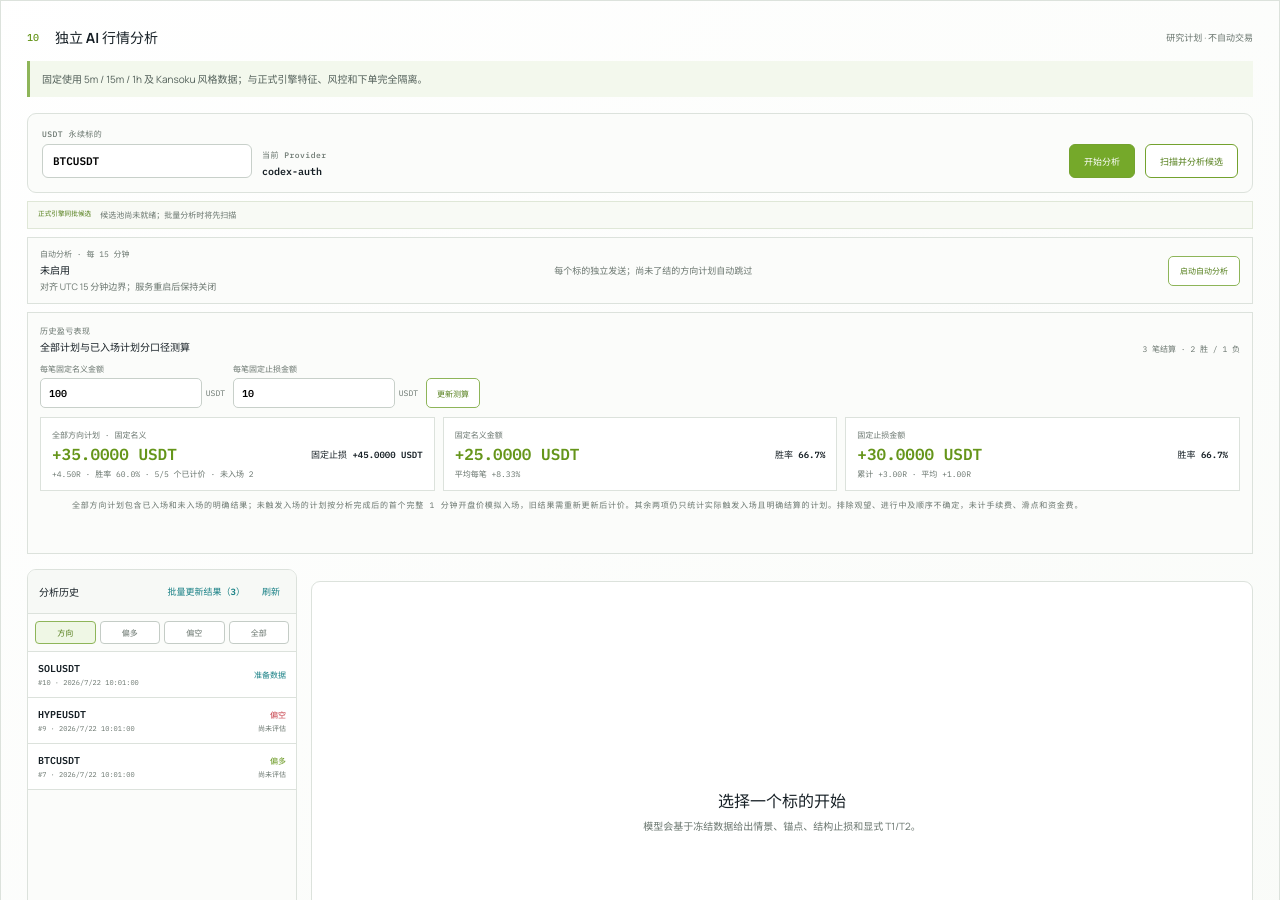
Test: MarketAnalysisPanel › filters analysis history by directional, long, short, and all results
This screenshot has width=1280, height=900.
Expected: the text "HYPEUSDT" is shown, [38, 708, 86, 721]
Expected: the text "BTCUSDT" is shown, [38, 754, 80, 767]
Click the button "偏多" at (130, 632), box [100, 621, 160, 644]
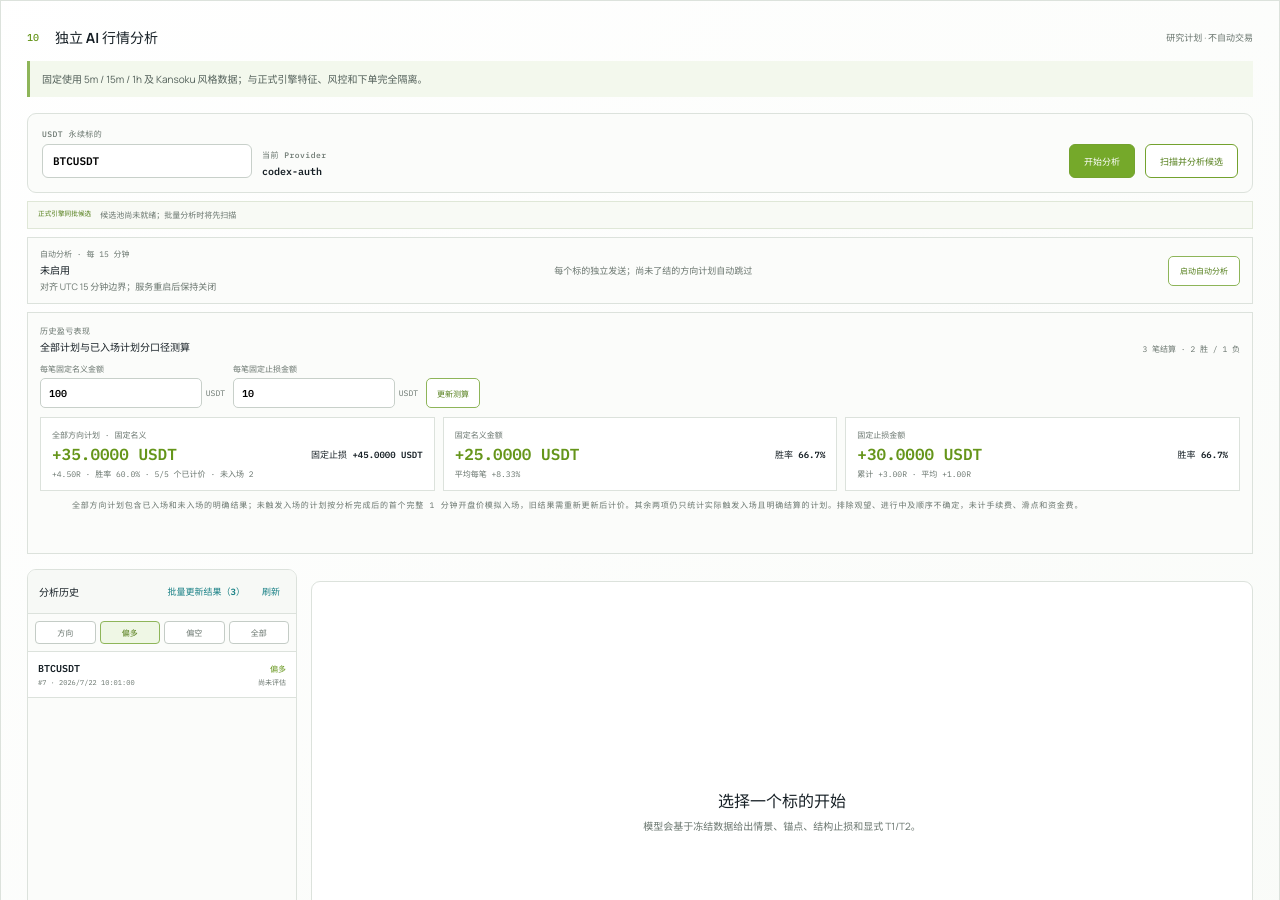
Expected: the text "BTCUSDT" is shown, [38, 662, 80, 675]
Expected: the button "HYPEUSDT" is gone
Expected: the button "SOLUSDT" is gone
Click the button "偏空" at (194, 632), box [164, 621, 224, 644]
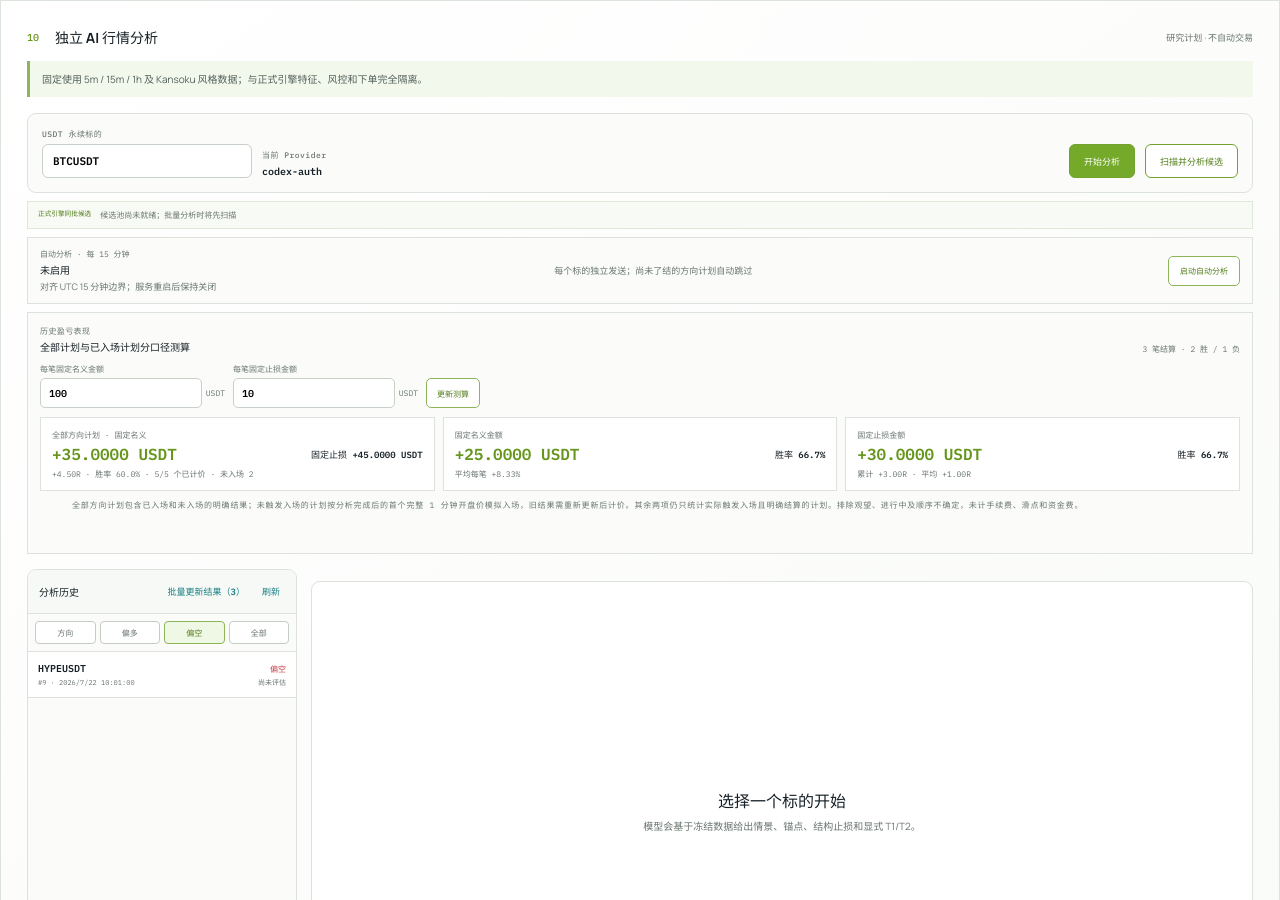
Expected: the text "HYPEUSDT" is shown, [38, 662, 86, 675]
Click the button "全部" at (259, 632), box [228, 621, 289, 644]
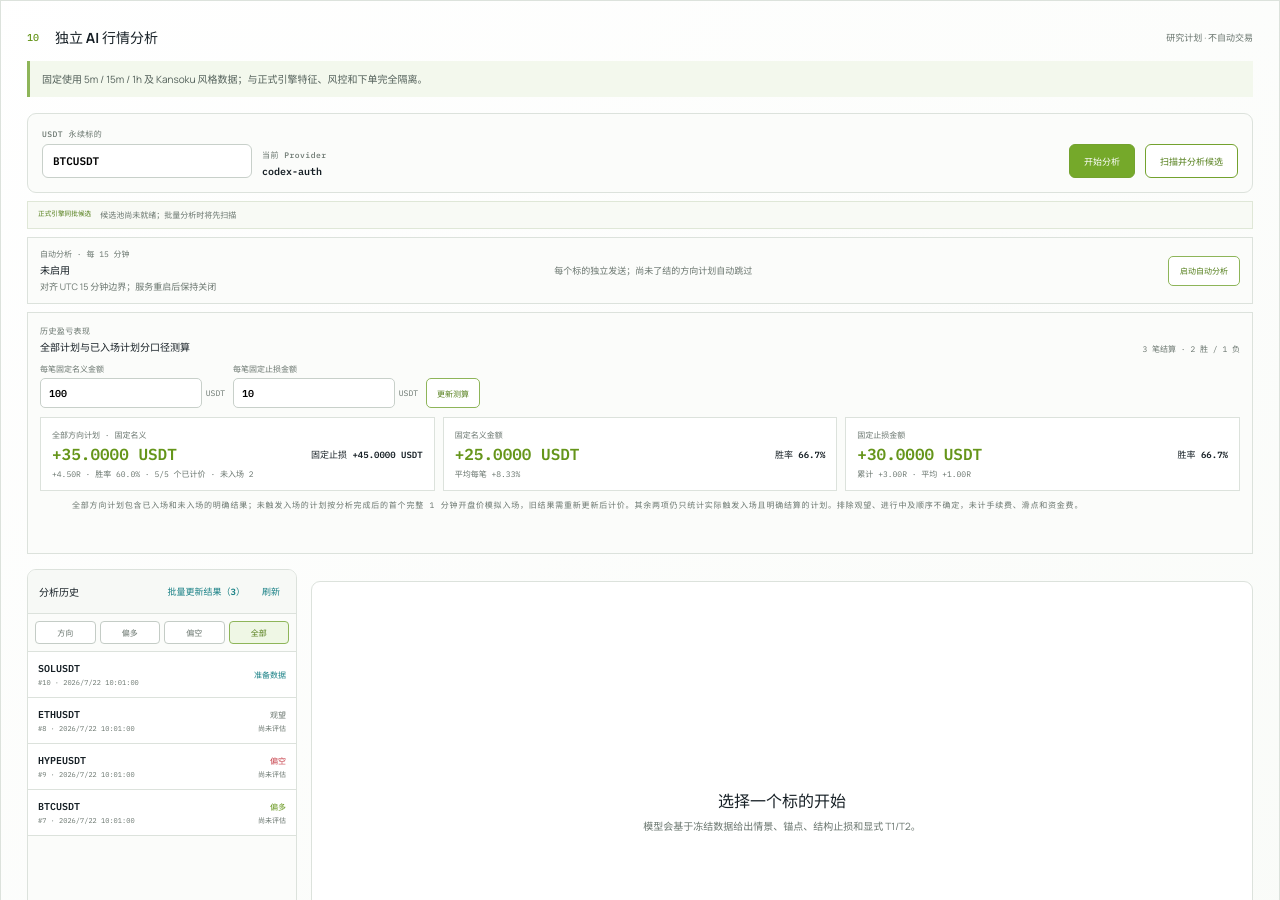
Expected: the text "ETHUSDT" is shown, [38, 708, 80, 721]
Click the button "ETHUSDT #8 · 2026/7/22 10:01:00 观望 尚未评估" at (59, 714), box [28, 698, 296, 744]
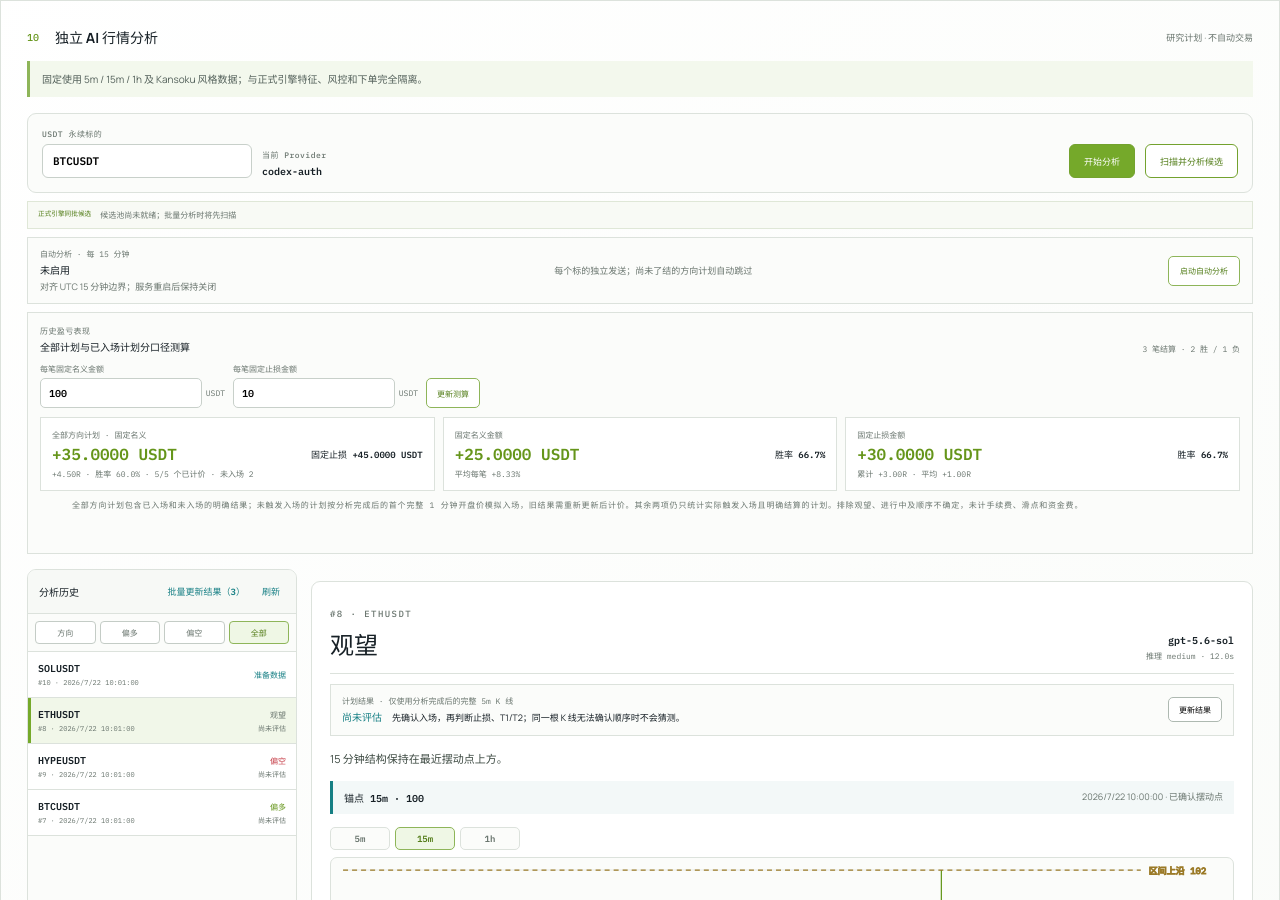
Expected: the heading "观望" is shown, [330, 628, 378, 661]
Click the button "方向" at (65, 632), box [35, 621, 96, 644]
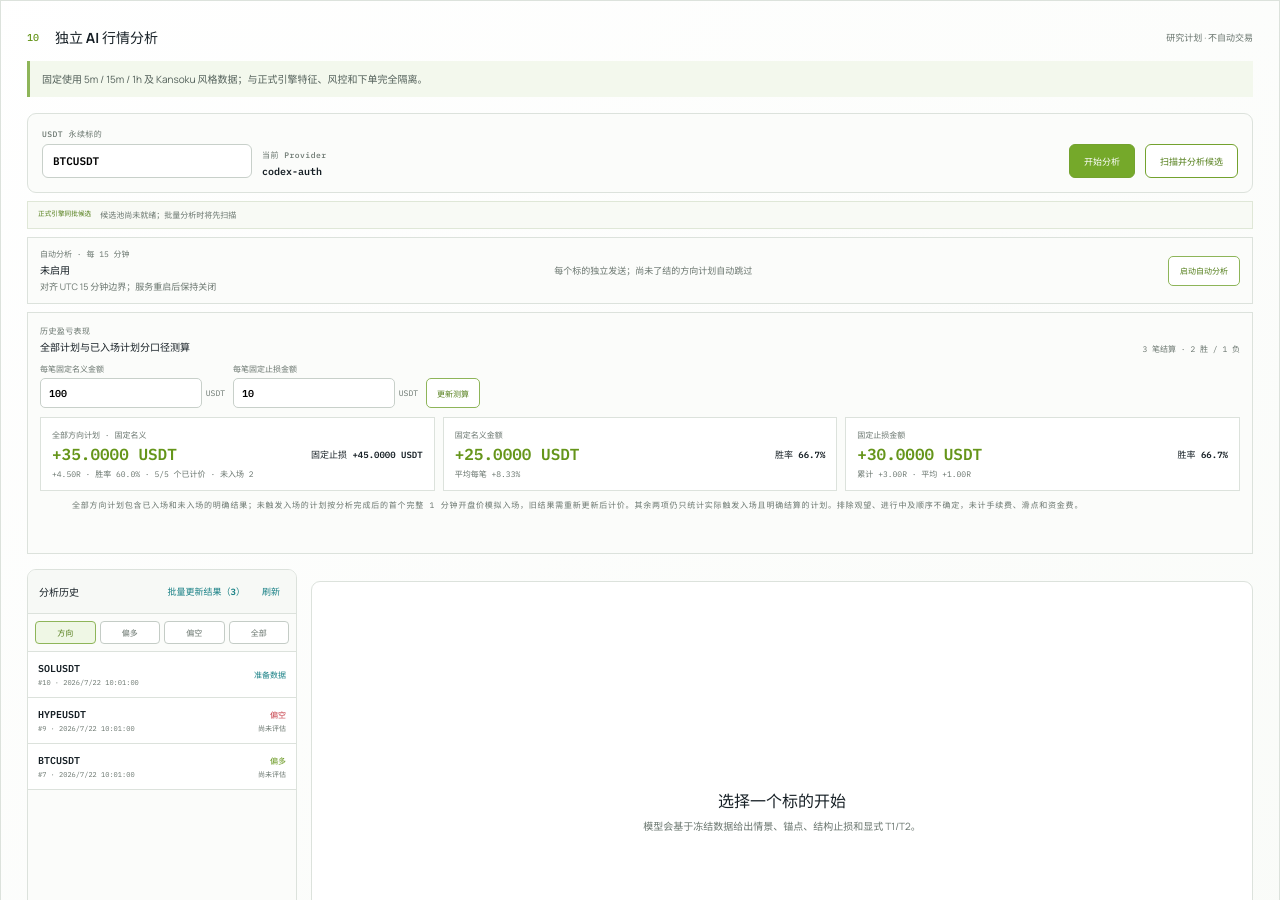
Expected: the heading "观望" is not shown
Expected: the text "选择一个标的开始" is shown, [718, 790, 846, 812]
